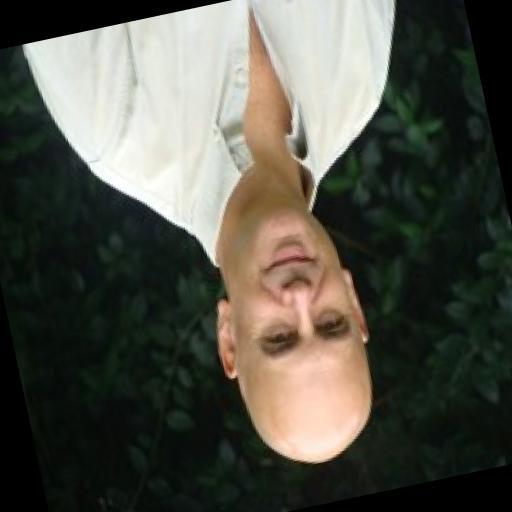human: (8, 0, 493, 509)
